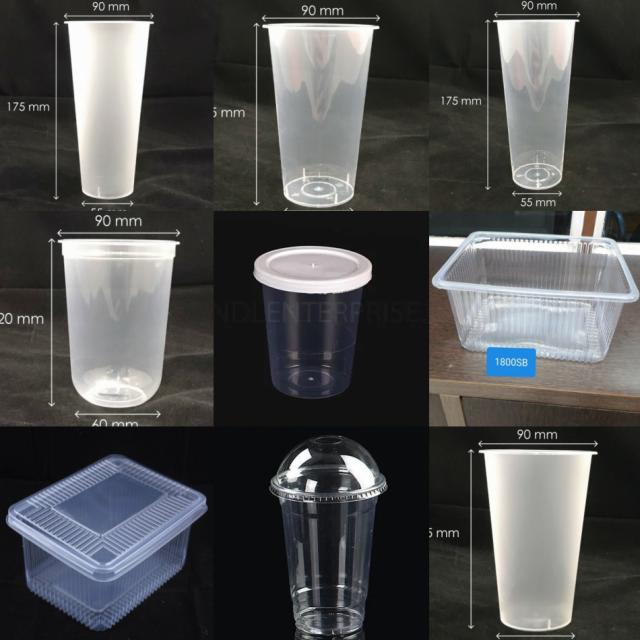plastik: (7, 454, 206, 630), (433, 231, 638, 362), (270, 435, 387, 636), (479, 450, 597, 630), (263, 23, 377, 207), (60, 239, 177, 408), (253, 247, 372, 398), (67, 21, 152, 198), (496, 19, 575, 189)
